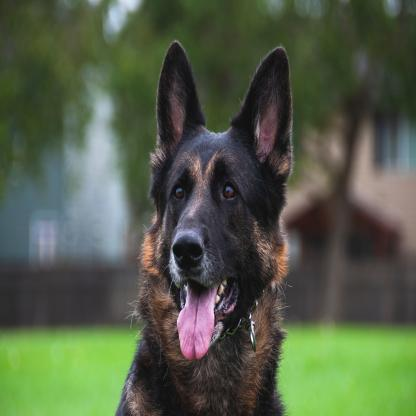german shepherd: (112, 44, 303, 416)
